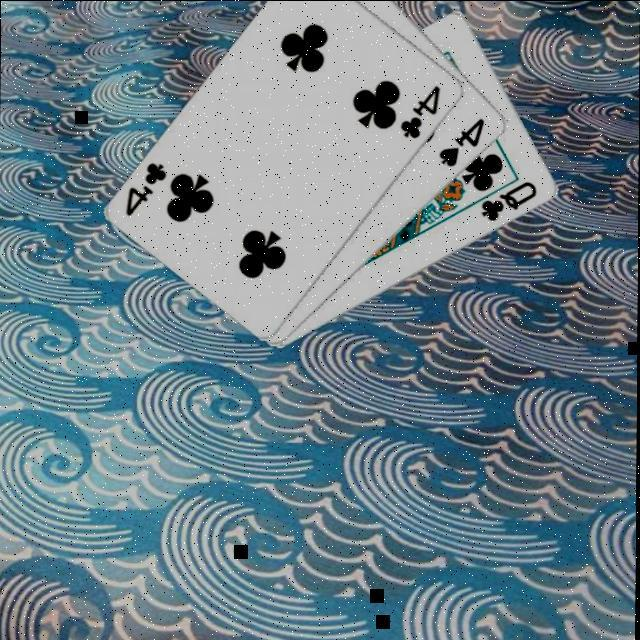4C: (123, 157, 171, 218), (398, 80, 445, 140)
4S: (437, 113, 489, 169)
QC: (479, 177, 541, 223)
